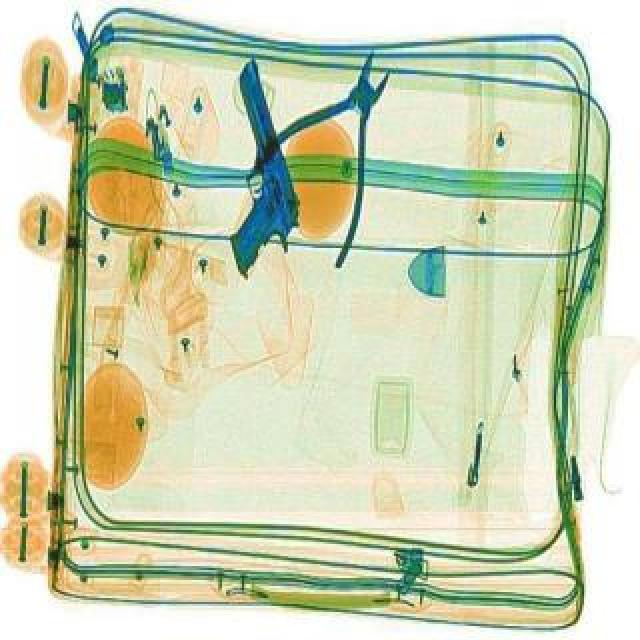gun: (178, 56, 318, 276)
wrench: (222, 26, 446, 268)
